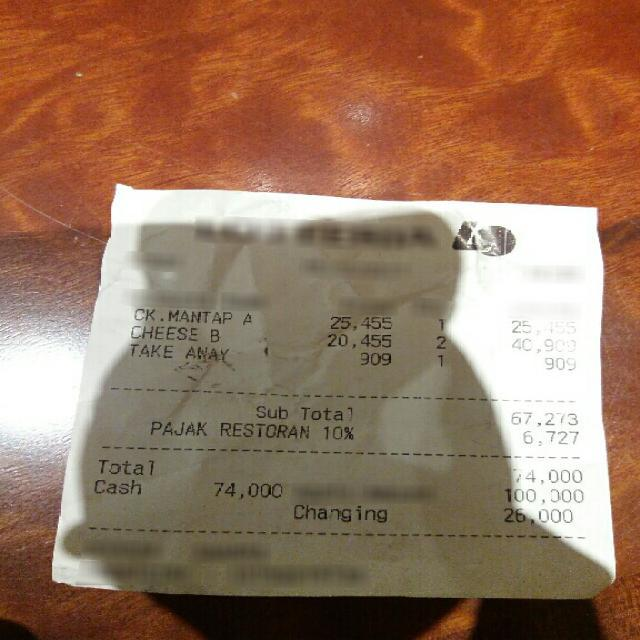kertas: (52, 183, 634, 615)
